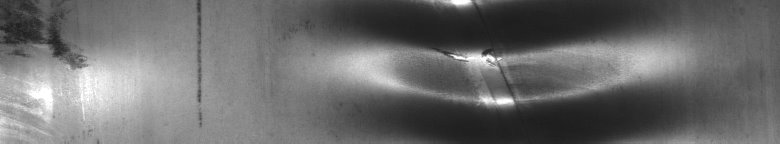ke: (412, 4, 604, 116)
